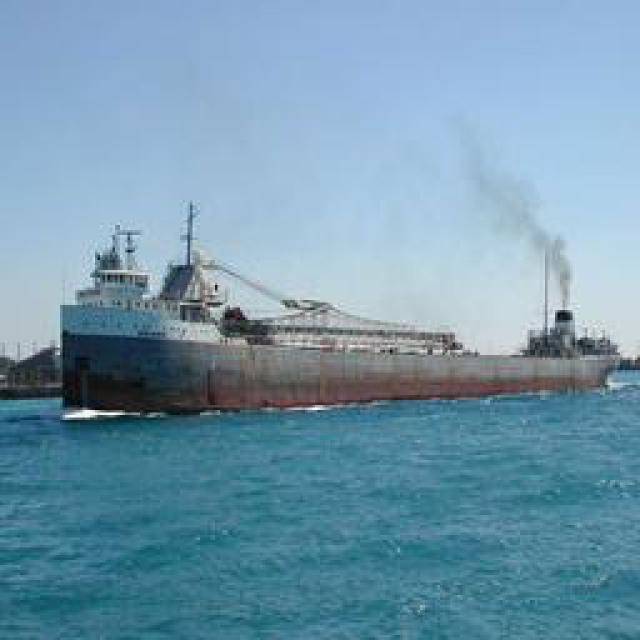Ship: (54, 206, 619, 419)
